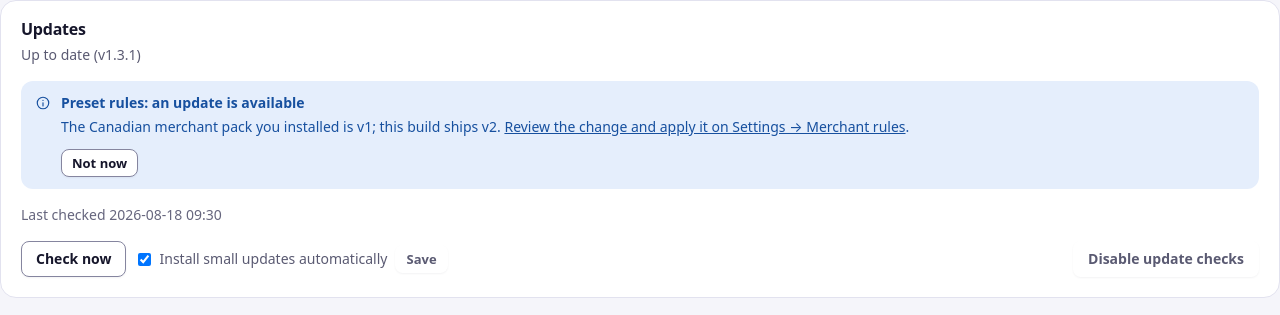
Test: backlog item 17 / Part 4: the preset-pack update notice › UP-3: hides the notice once the action reports it dismissed, without waiting for new props
The width and height of the screenshot is (1280, 315).
Step 1. Click the button "Not now" → click(100, 163), box [61,149,138,177]
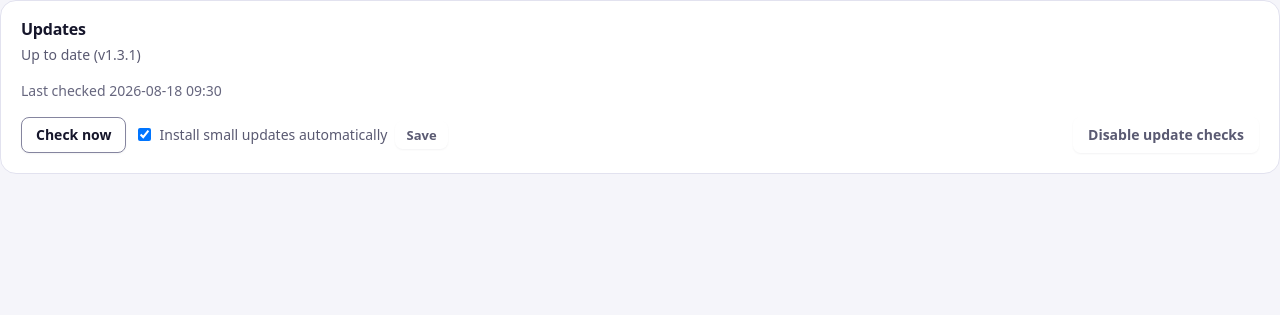
Now the text "Preset rules: an update is available" is gone
